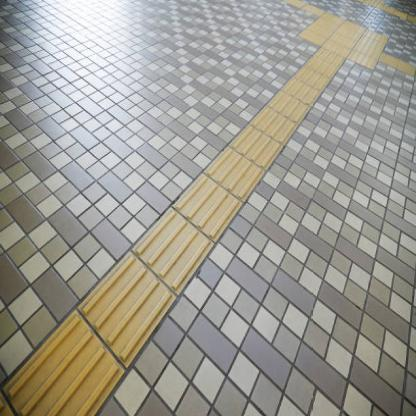podotacti: (0, 10, 388, 414)
